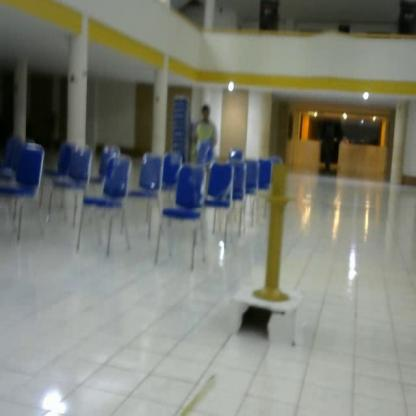pole: (251, 160, 301, 305)
